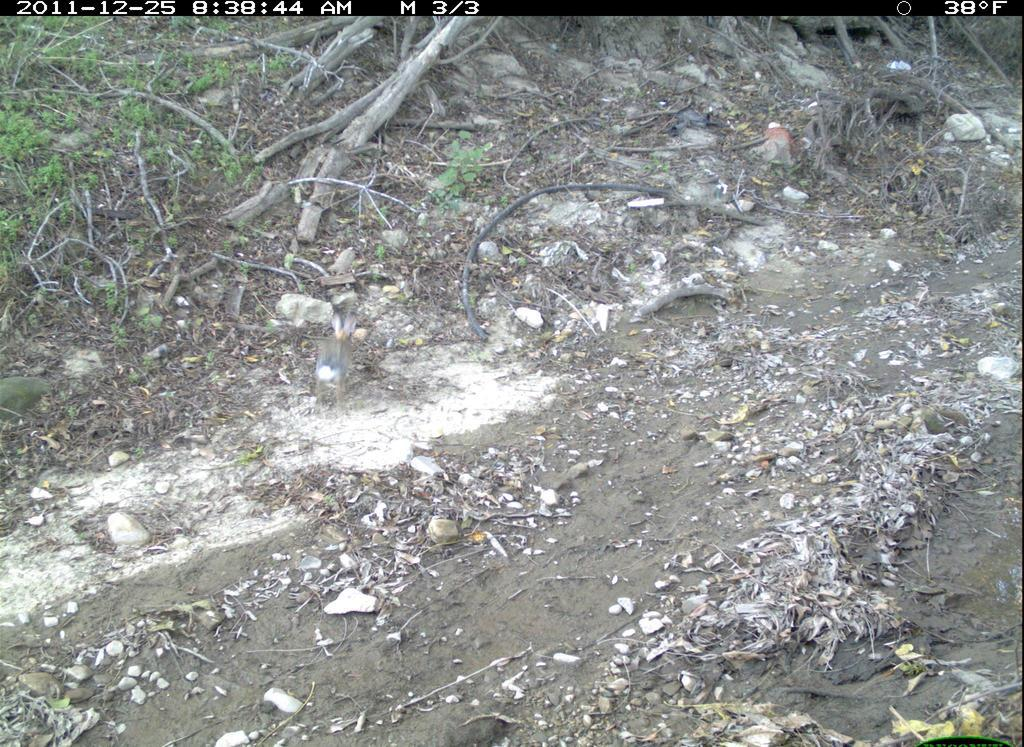rabbit: (308, 297, 387, 446)
